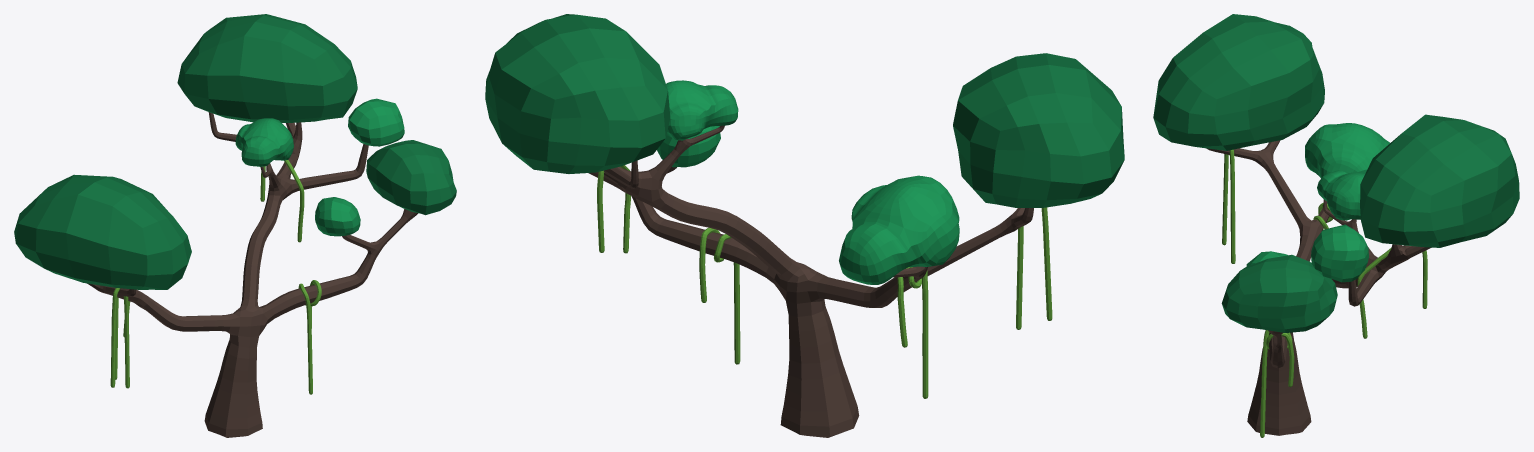
File: jungle_tree_2.fbx
3 renders of one model, left to right at view 1: azimuth 30°, elevation 25°; view 2: azimuth 150°, elevation 25°; view 3: azimuth 270°, elevation 25°, orthographic. The views are drawn at different scales.
Visible parts, largest first — view 1: tree_2; view 2: tree_2; view 3: tree_2.
Boxes of the visible parts, x1,y1,x2,y2 form: tree_2: (14,14,456,437); tree_2: (485,14,1124,437); tree_2: (1153,14,1519,437).
Bounding box in the file's own units: 3217 × 2347 × 2180.
